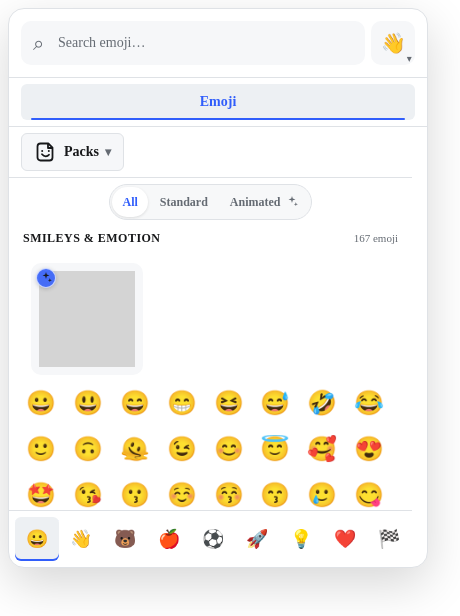
Scenario: animated media › makes extension emoji discoverable without adding a primary media tab
Click the button with aria-label "Standard emoji". click: (184, 202)
box: [150, 187, 218, 217]
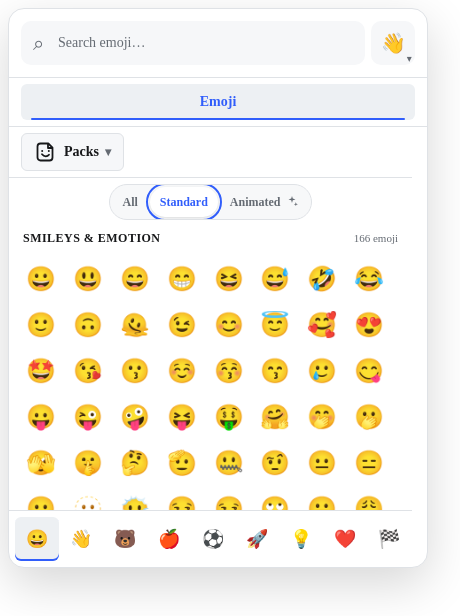
Click the button with aria-label "Animated emoji". click: (264, 202)
box: [220, 187, 308, 217]
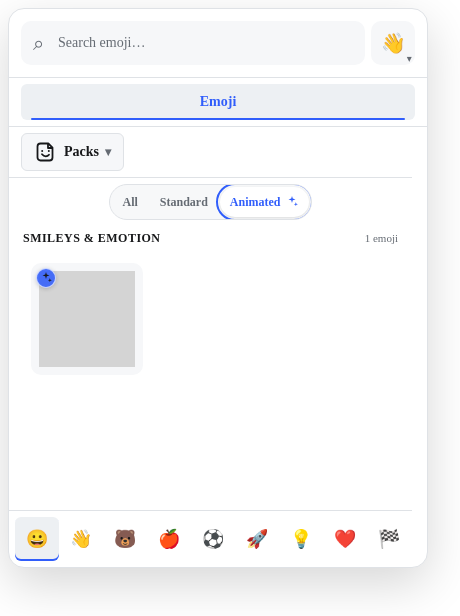
expect the element with class "mp-media-kind-indicator" is shown: met, box [36, 268, 56, 288]
